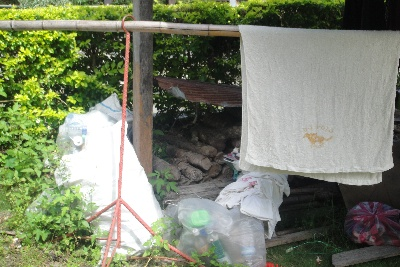plastic_bag: (56, 95, 158, 250), (166, 200, 267, 267), (343, 198, 400, 246)
